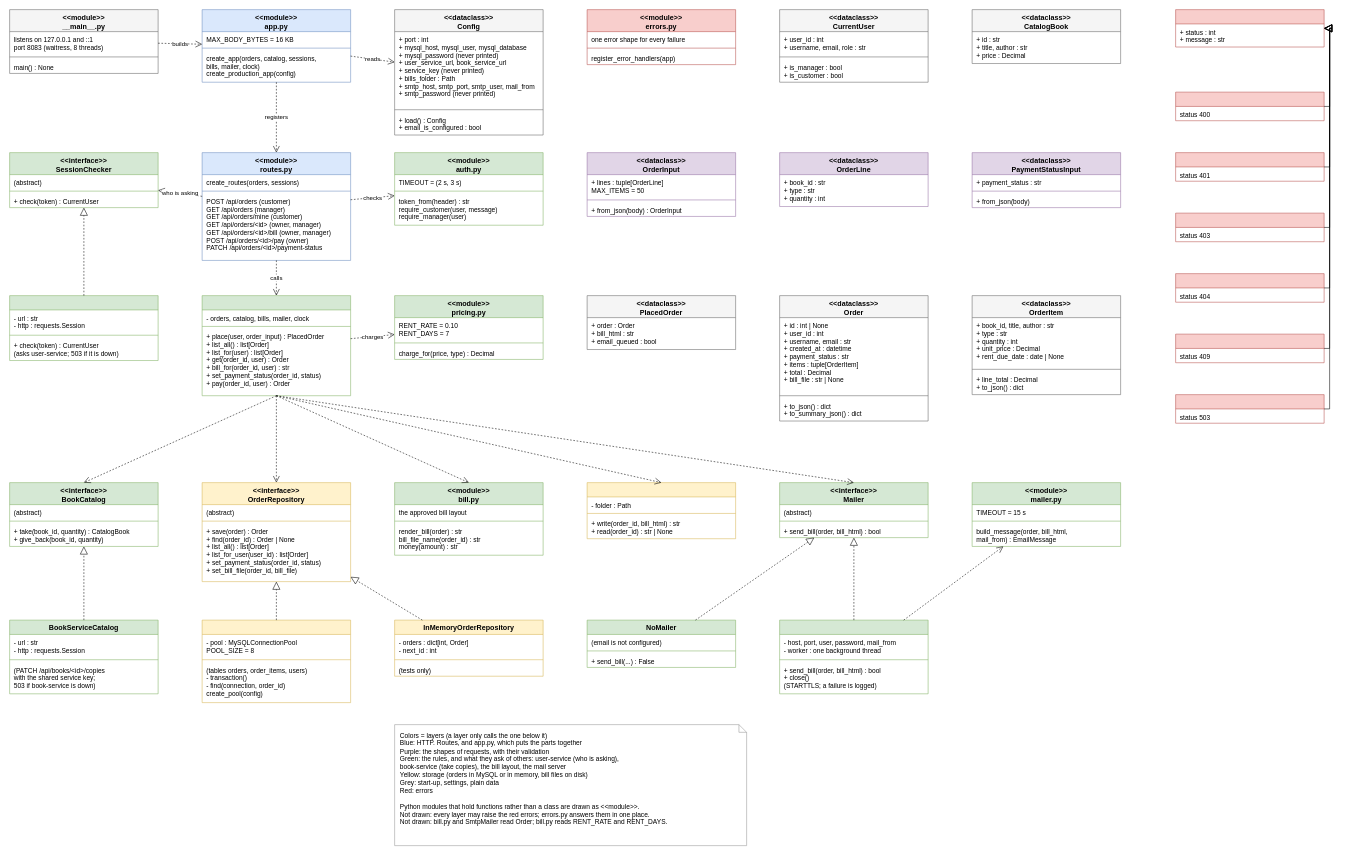
Some shapes in this 1347 by 855 pixel diagram are drawn without their labels. Each missing label, with the box of its shape:
ApiError: (1175, 9, 1324, 47)
BillStore: (587, 482, 736, 539)
ConflictError: (1175, 334, 1324, 363)
ForbiddenError: (1175, 213, 1324, 242)
MySqlOrderRepository: (202, 620, 351, 703)
NotFoundError: (1175, 273, 1324, 302)
OrderService: (202, 295, 351, 396)
ServiceUnavailableError: (1175, 394, 1324, 423)
SmtpMailer: (779, 620, 928, 694)
UnauthorizedError: (1175, 152, 1324, 181)
UserServiceSessionChecker: (9, 295, 158, 361)
ValidationError: (1175, 92, 1324, 121)
